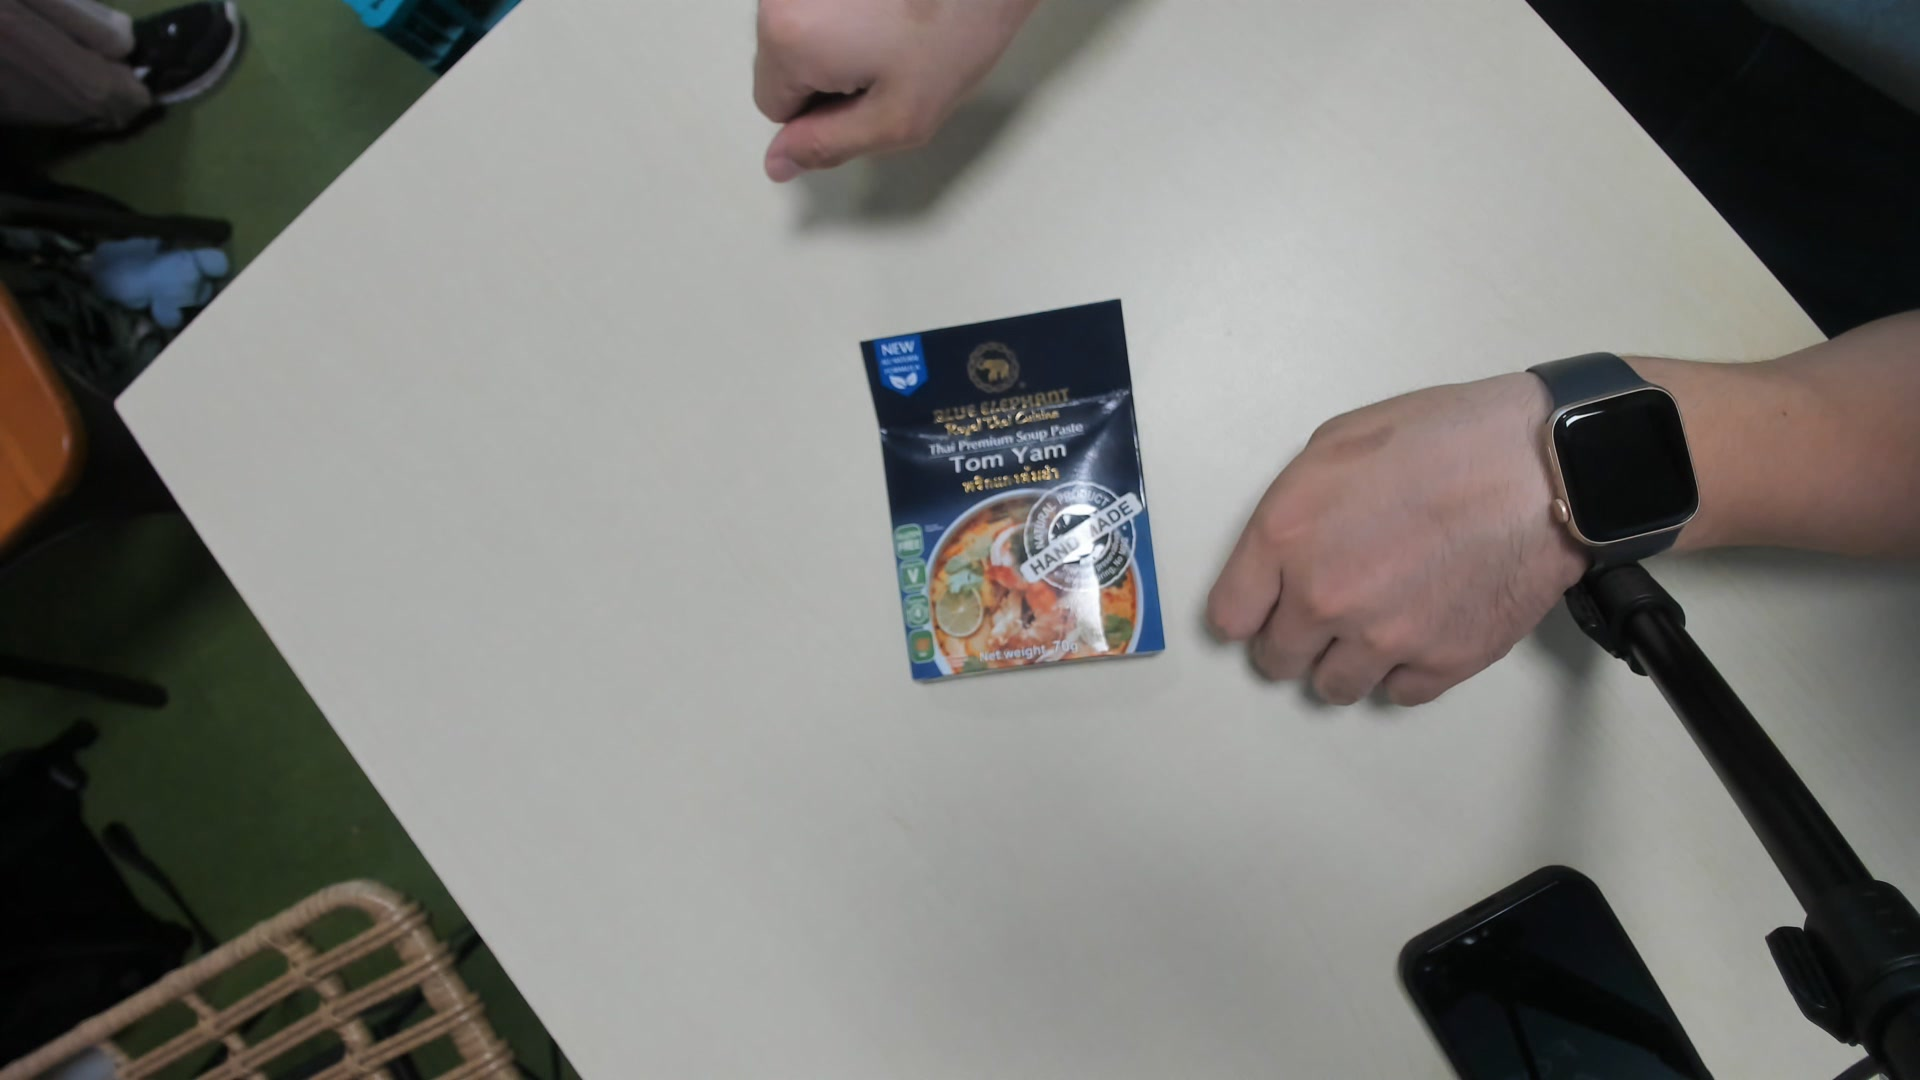OtherSauceDressing_0-99g_Halal_NonHealthy: (865, 295, 1172, 678)
